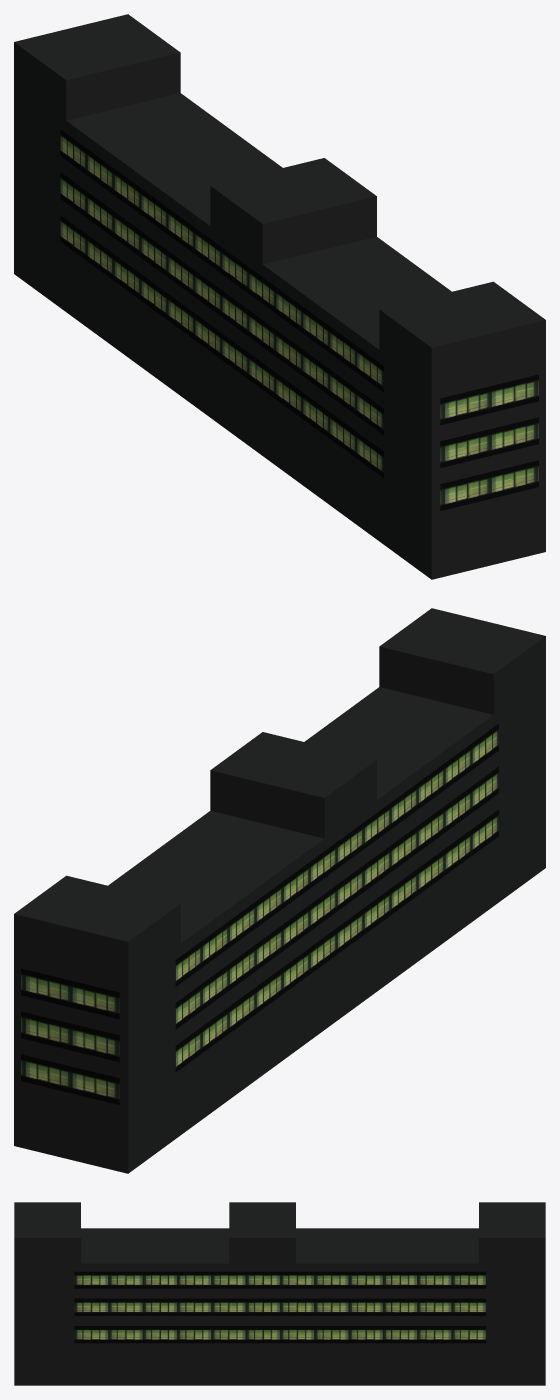
The model's file is AMB_POST_OFFICE.glb.
3 views of the same model, one above another, from view 1: azimuth 30°, elevation 25°; view 2: azimuth 150°, elevation 25°; view 3: azimuth 270°, elevation 25° (orthographic). The views are drawn at different scales.
Parts seen in each view (by area): view 1: BASE; view 2: BASE; view 3: BASE.
Boxes of the visible parts, x1,y1,x2,y2 form: BASE: (14,14,545,579); BASE: (14,608,545,1173); BASE: (14,1202,545,1385).
Bounding box in the file's own units: 61.11 × 118 × 384.
Materials: 2 (2 with a texture image).
